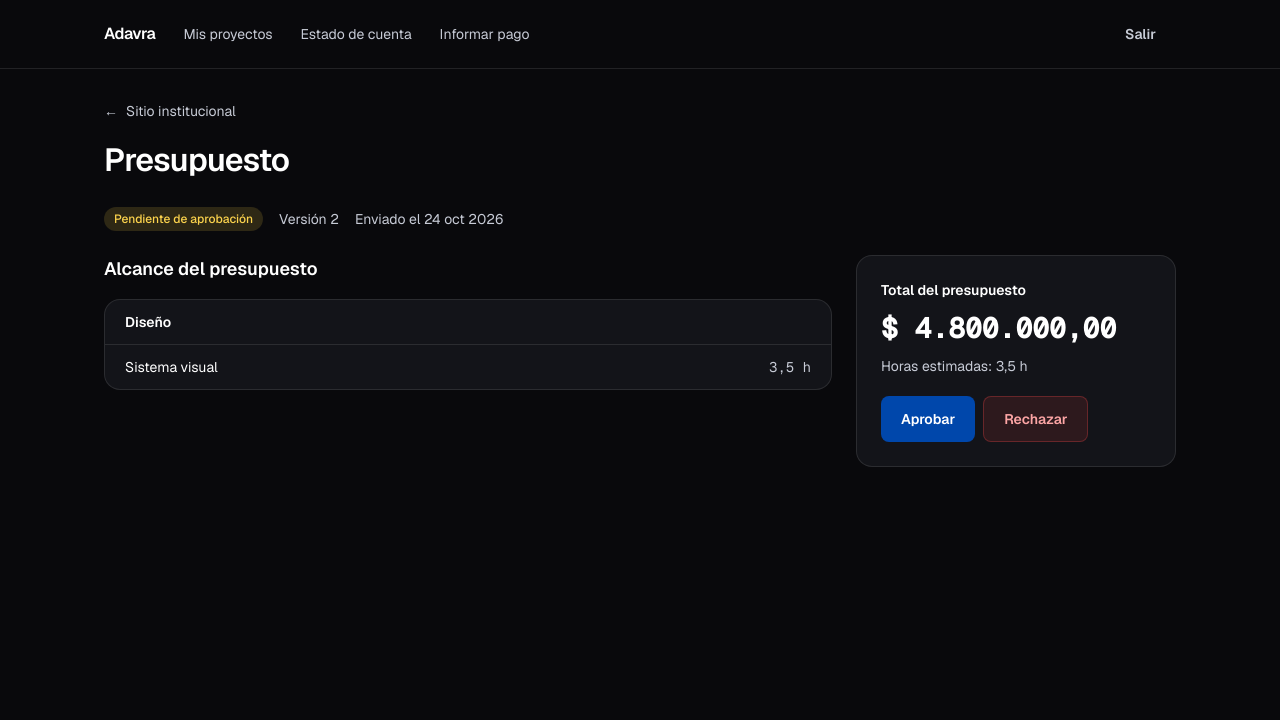
Test case: Decisión sobre un presupuesto › registra un rechazo y muestra el nuevo estado
Click the button "Rechazar": click(1036, 419) [983,396,1088,442]
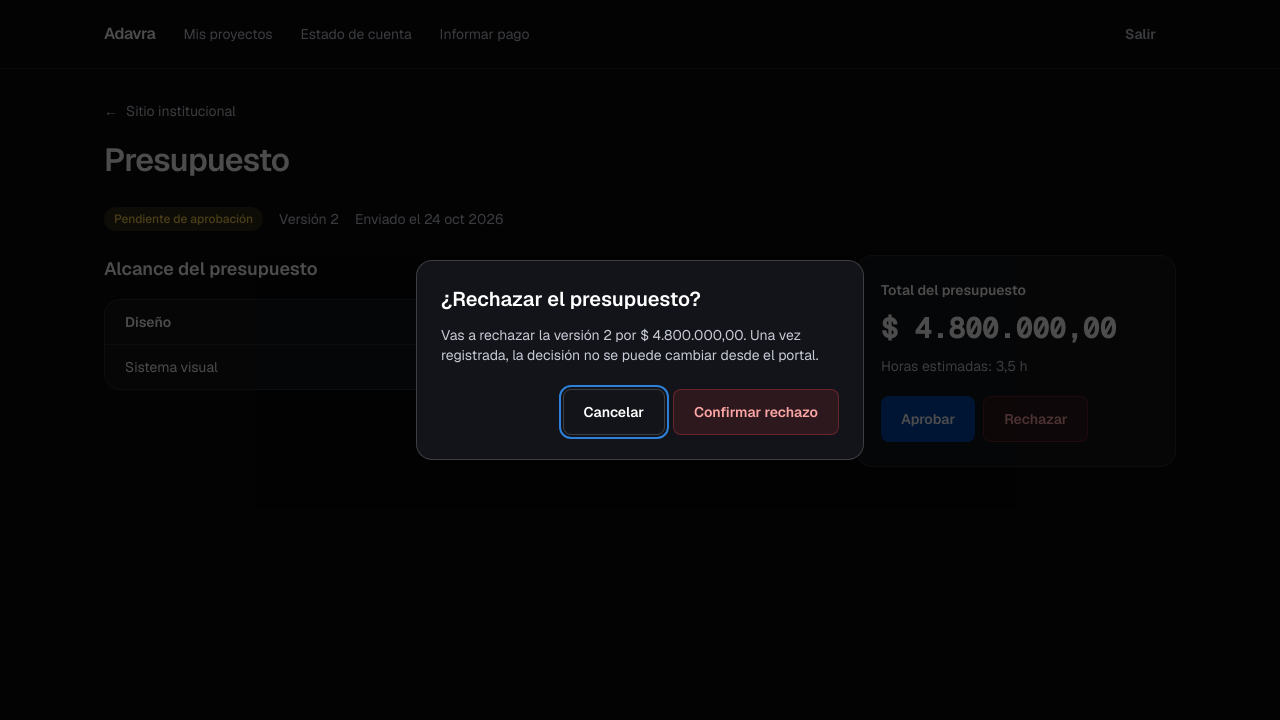
Click the button "Confirmar rechazo": click(756, 412) [673,389,839,435]
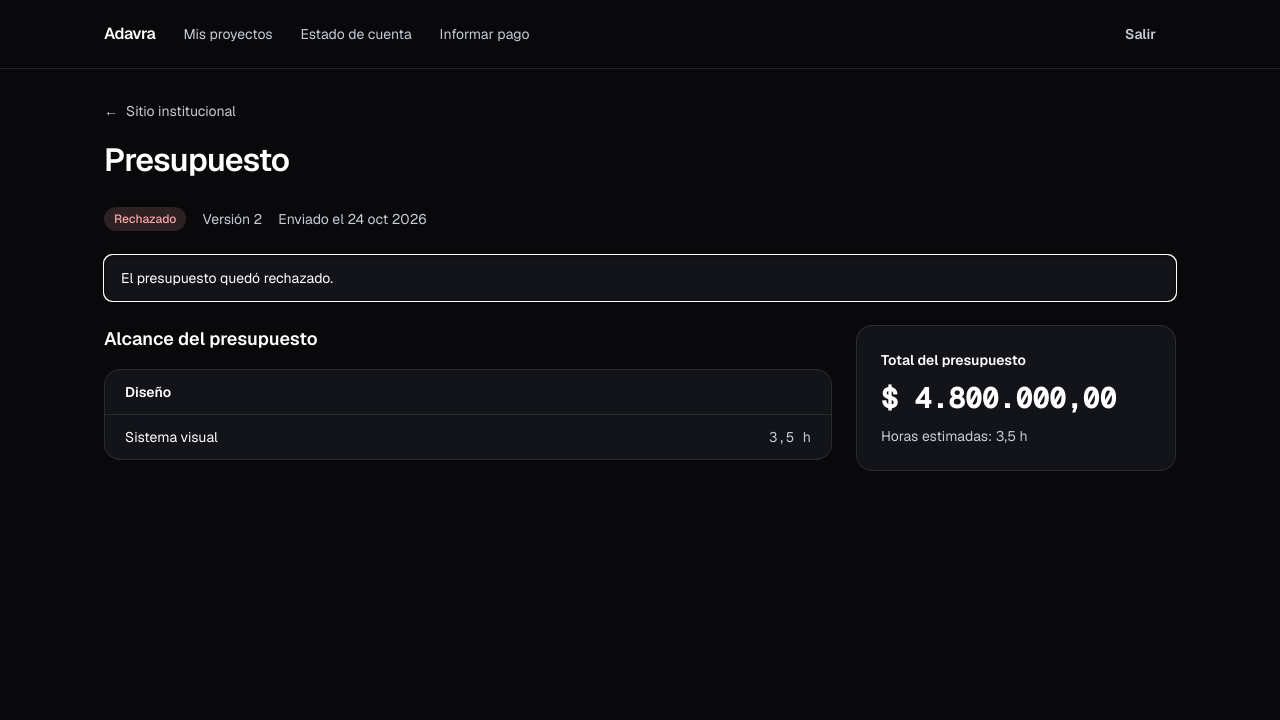
Expected: the message reads "El presupuesto quedó rechazado.", [121,269,333,287]
Expected: the text "Rechazado" is shown, [104,207,186,231]
Expected: the button "Rechazar" is gone
